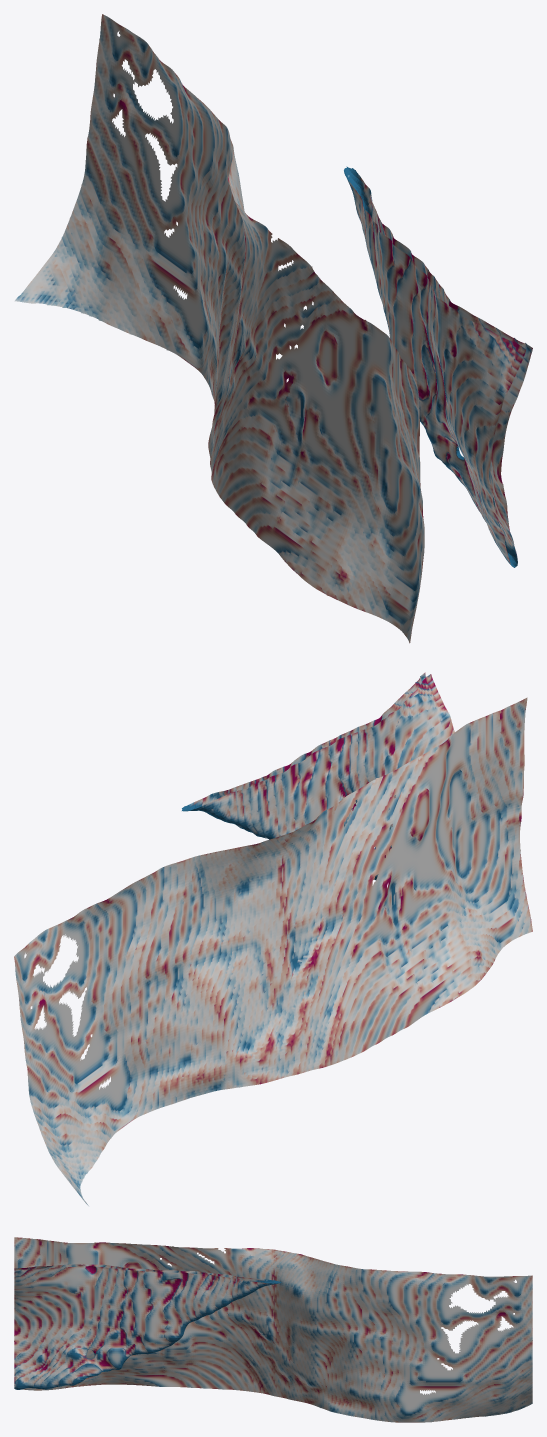
Rendered from crop1031_curvature.glb.
The picture shows the model from 3 angles, top to bottom: view 1: azimuth 30°, elevation 25°; view 2: azimuth 150°, elevation 25°; view 3: azimuth 270°, elevation 25°; orthographic projection. The views are drawn at different scales.
Parts seen in each view (by area): view 1: world; view 2: world; view 3: world.
Boxes of the visible parts, left/top/right/bottom form: world: left=14, top=14, right=532, bottom=643; world: left=14, top=672, right=532, bottom=1205; world: left=14, top=1237, right=532, bottom=1422.
Bounding box in the file's own units: 1019 × 1400 × 4279.
